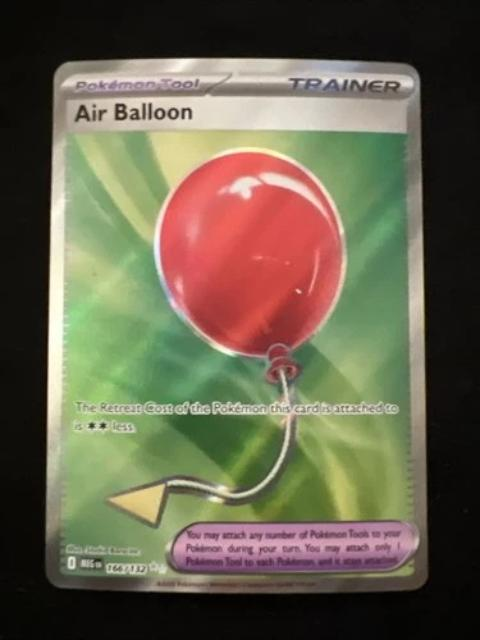Card: (41, 52, 433, 599)
Name: (69, 97, 202, 129)
